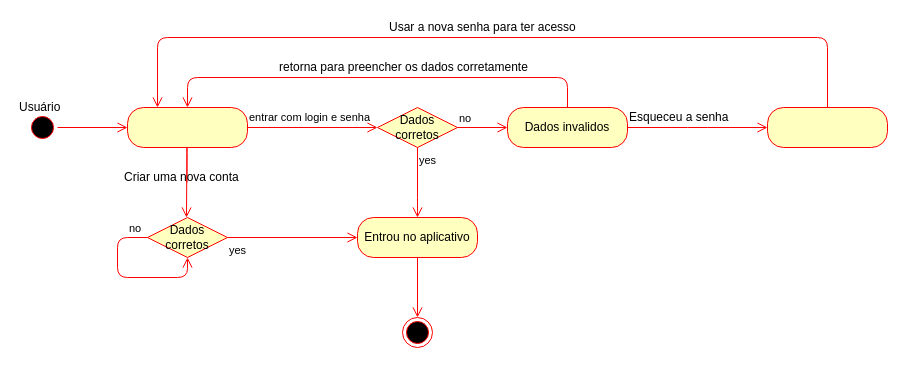
Image size: 905x365. Some labels were removed from this diagram. The box of each missing label's shape, as (x1, y1, x2, y2) in pixels:
Aguardando dados de login: (126, 106, 248, 148)
Criar uma nova senha: (766, 106, 888, 148)
